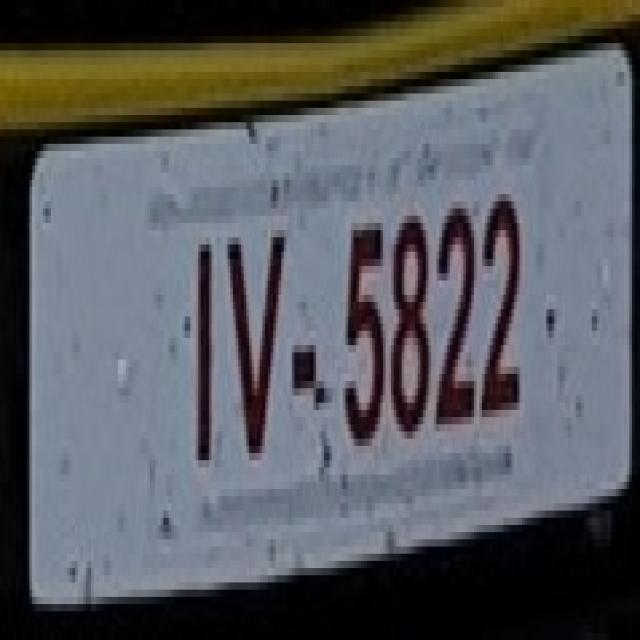1: (155, 208, 228, 454)
2: (471, 172, 533, 410), (426, 186, 484, 424)
5: (329, 201, 394, 439)
8: (374, 202, 436, 432)
V: (212, 208, 286, 454)
